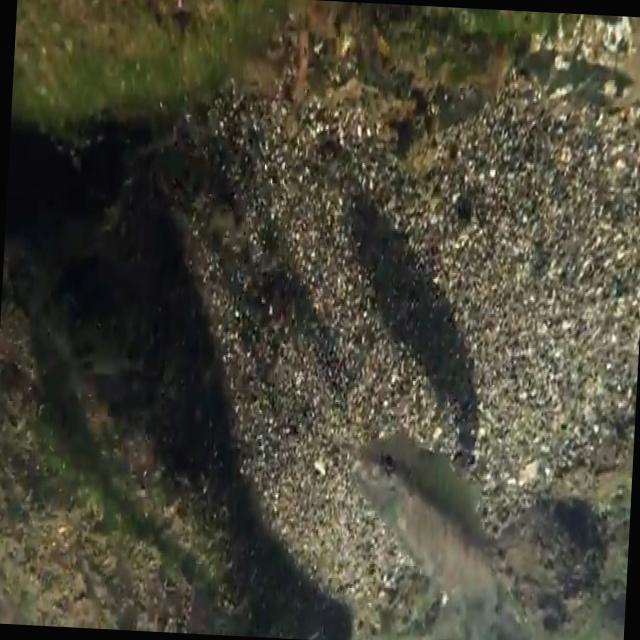Cakil Baligi: (338, 428, 519, 624)
